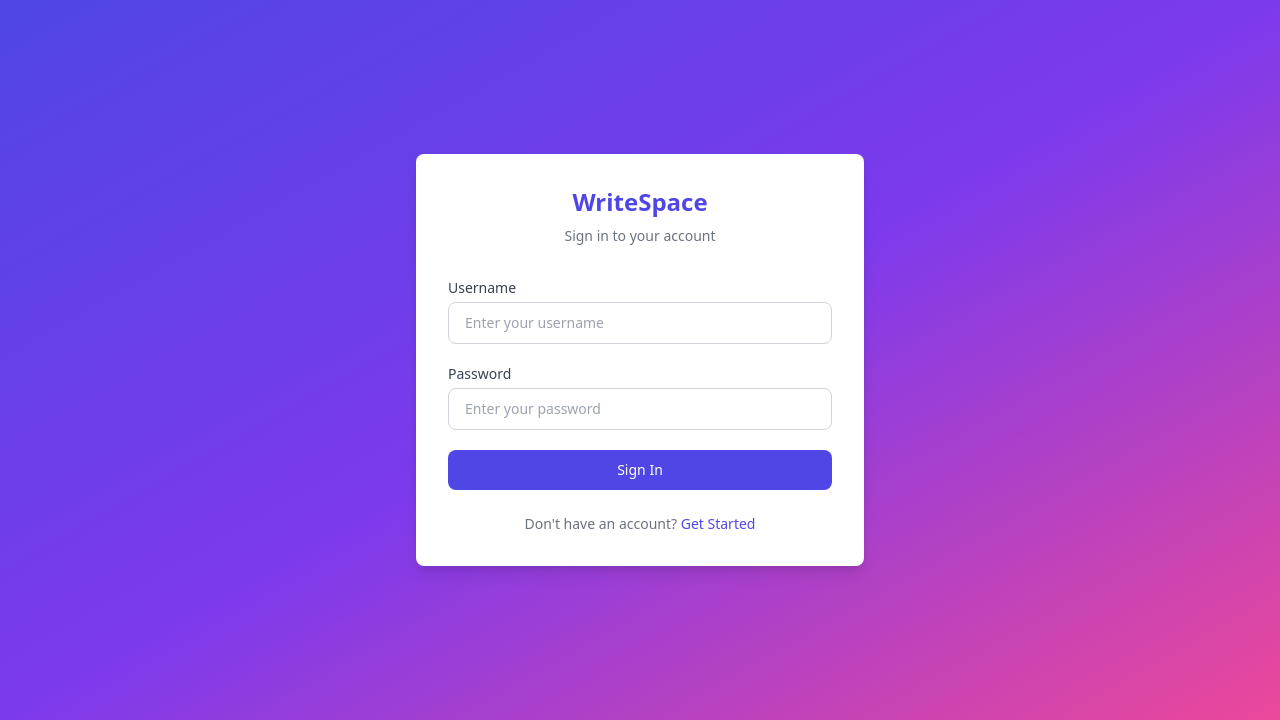
Test: LoginPage › validation › displays error when password is empty
Type "someuser" into the field labelled "Username" at x=640, y=323, box [448,302,832,344]
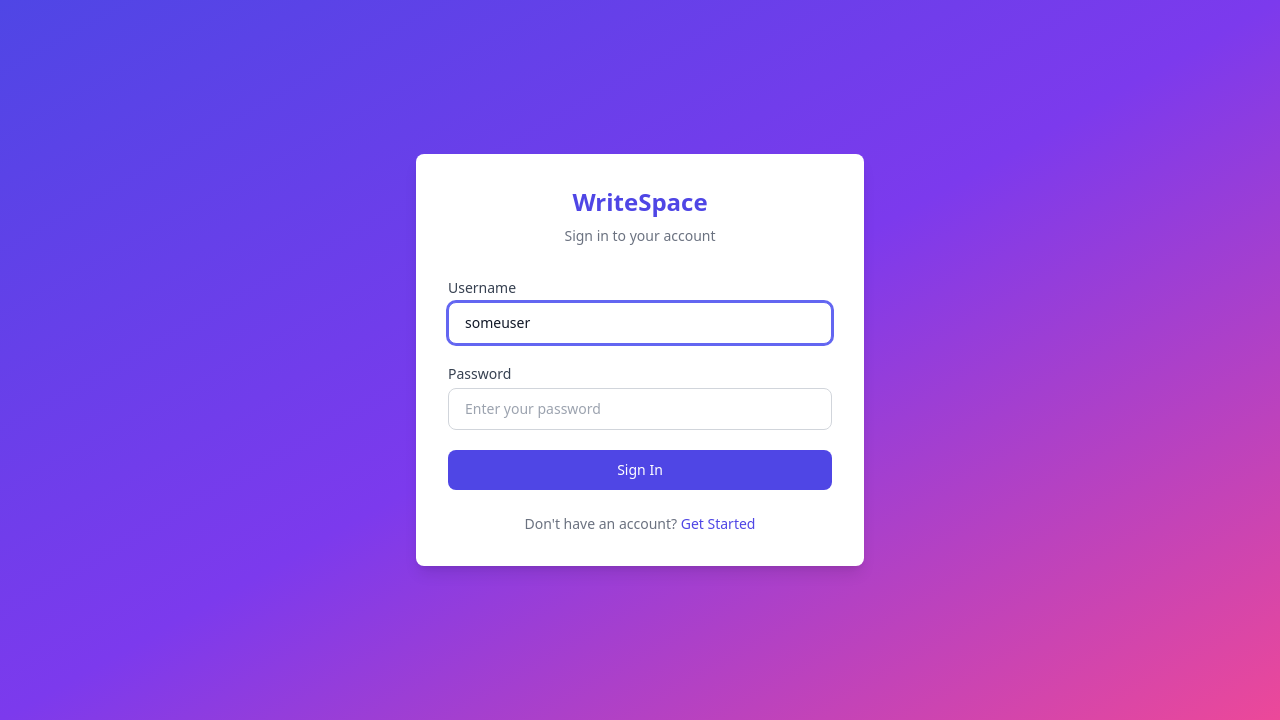
Click the button "Sign In" at x=640, y=470, box [448,450,832,490]
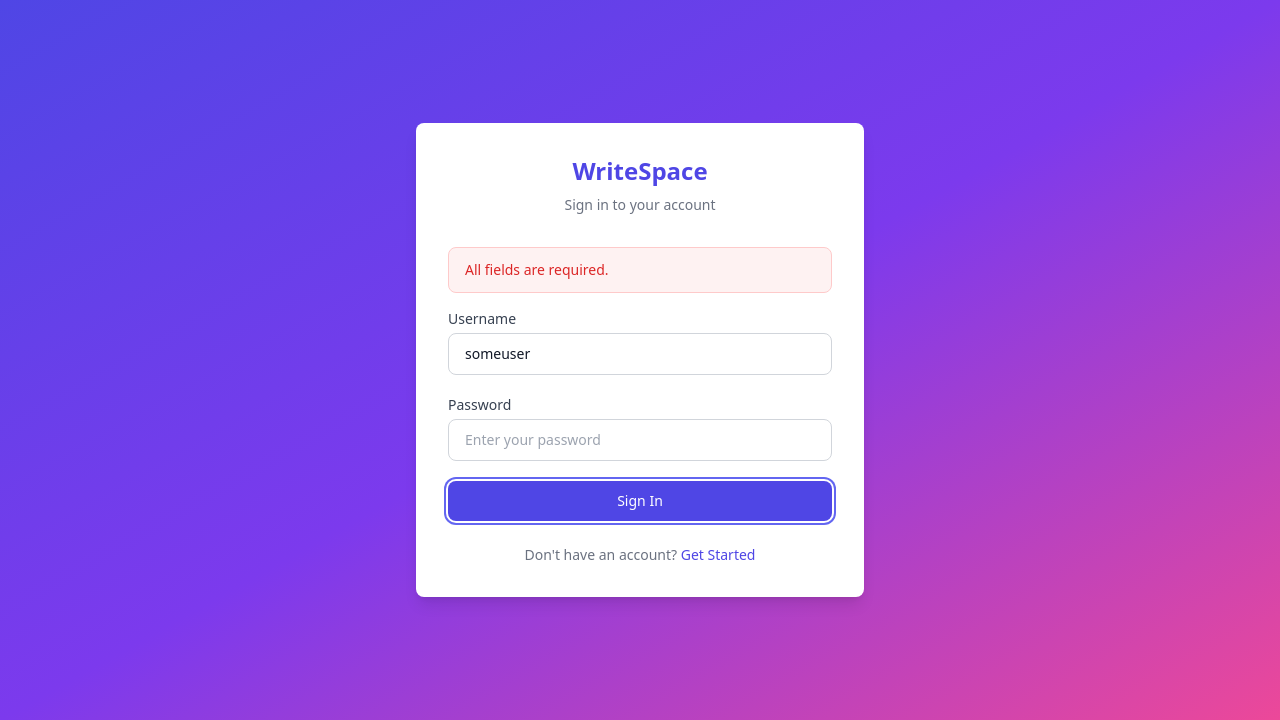
Check: the text "All fields are required." is shown, box [448,247,832,293]
